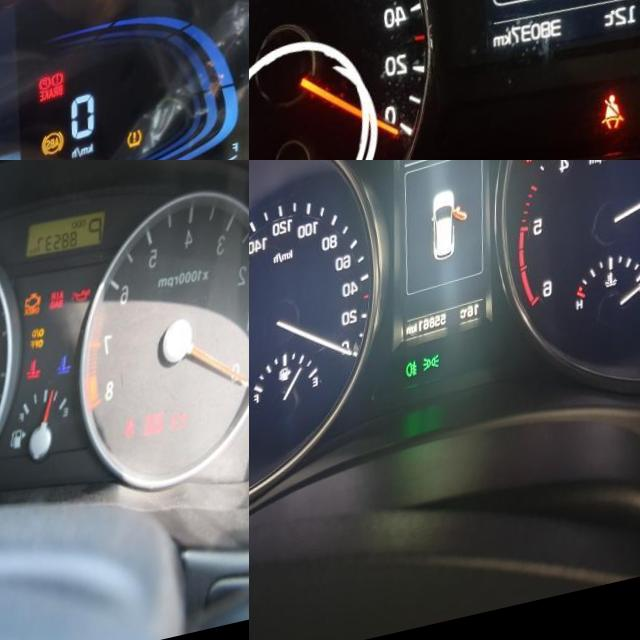Engine cooling system: (29, 370, 45, 392)
FrontFogLight: (408, 370, 421, 392)
SideLamp: (425, 365, 443, 386)
